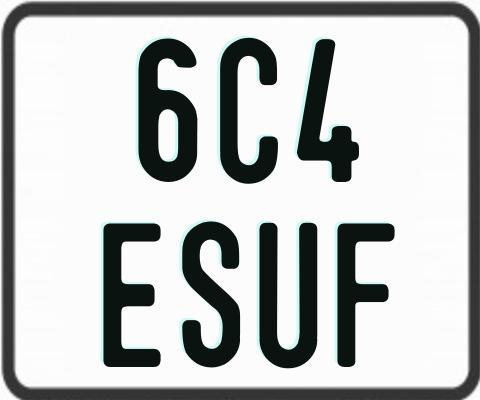4: (296, 36, 362, 183)
6: (137, 39, 198, 182)
C: (218, 35, 279, 183)
E: (103, 223, 163, 373)
F: (334, 222, 395, 368)
S: (179, 219, 242, 368)
U: (256, 220, 316, 368)
